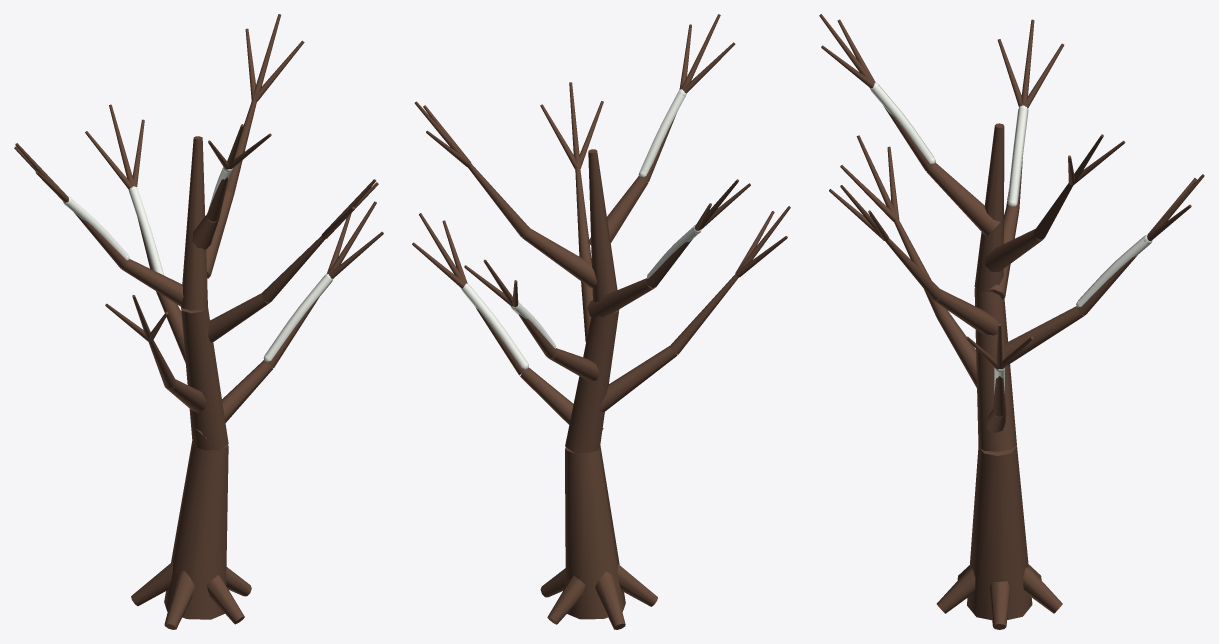
File: almanac-gardens-winter-orchard-tree-c4bf736b__22061.glb
3 renders of one model, left to right at view 1: azimuth 30°, elevation 25°; view 2: azimuth 150°, elevation 25°; view 3: azimuth 270°, elevation 25°, orthographic. The views are drawn at different scales.
Parts seen in each view (by area): view 1: winter-orchard-tree-bark, winter-orchard-tree-snow; view 2: winter-orchard-tree-bark, winter-orchard-tree-snow; view 3: winter-orchard-tree-bark, winter-orchard-tree-snow.
Part boxes in pixels (bbox=[...]): winter-orchard-tree-bark: bbox=[14, 14, 383, 629]; winter-orchard-tree-snow: bbox=[63, 167, 333, 362]; winter-orchard-tree-bark: bbox=[412, 14, 790, 629]; winter-orchard-tree-snow: bbox=[461, 89, 701, 369]; winter-orchard-tree-bark: bbox=[819, 14, 1204, 629]; winter-orchard-tree-snow: bbox=[869, 82, 1152, 393].
Size of the model in its own units: 2.12 by 3.28 by 2.
